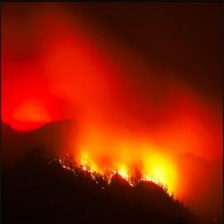fire: (79, 161, 181, 199)
